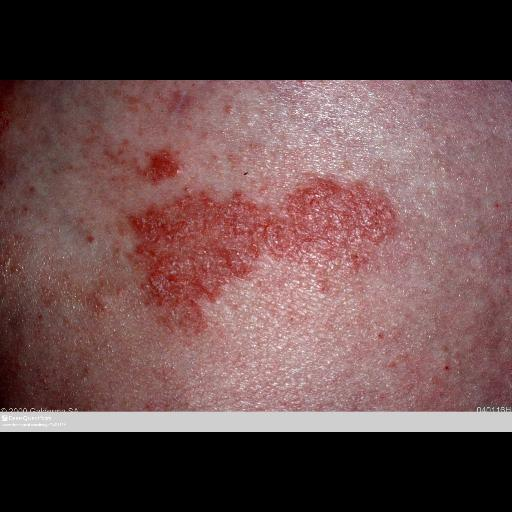Skin_Lesion: (130, 206, 228, 324), (286, 184, 396, 284), (236, 196, 274, 268), (139, 146, 183, 180), (170, 85, 194, 119), (86, 228, 98, 246)
